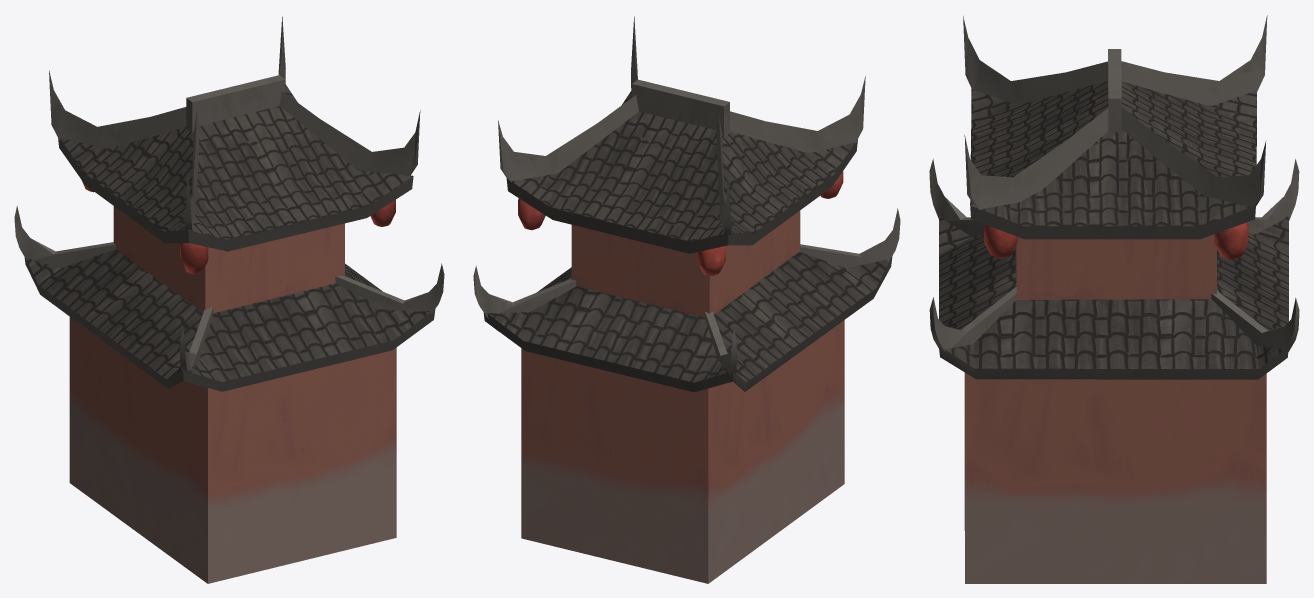
File: MinJu03.fbx
3 views of the same model, side by side, from view 1: azimuth 30°, elevation 25°; view 2: azimuth 150°, elevation 25°; view 3: azimuth 270°, elevation 25° (orthographic). The views are drawn at different scales.
Parts seen in each view (by area): view 1: minju03; view 2: minju03; view 3: minju03.
Part boxes in pixels (x1,y1,x2,y2): minju03: (14,16,444,583); minju03: (473,16,900,583); minju03: (929,15,1299,583).
Size of the model in its own units: 230 by 350 by 254.
